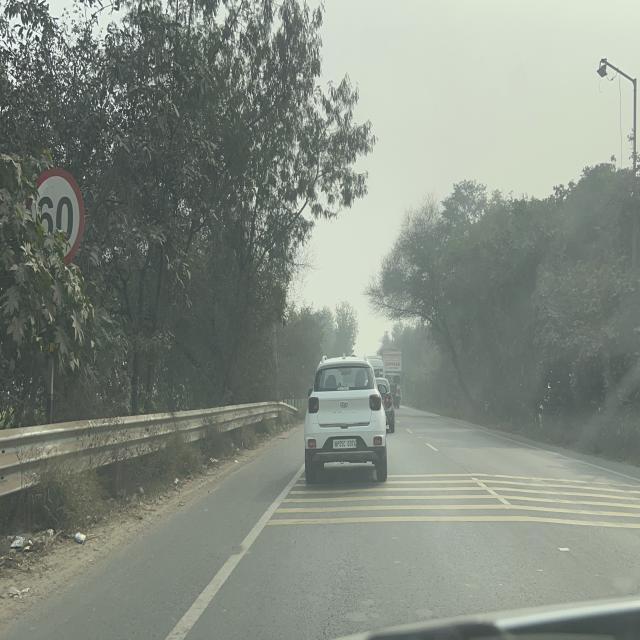SPEED_LIMIT_60: (33, 167, 87, 274)
